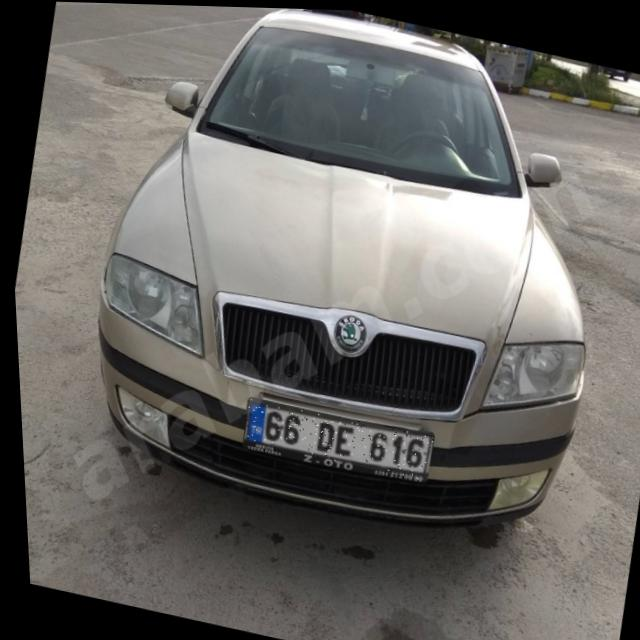license_plate: (237, 396, 431, 479)
